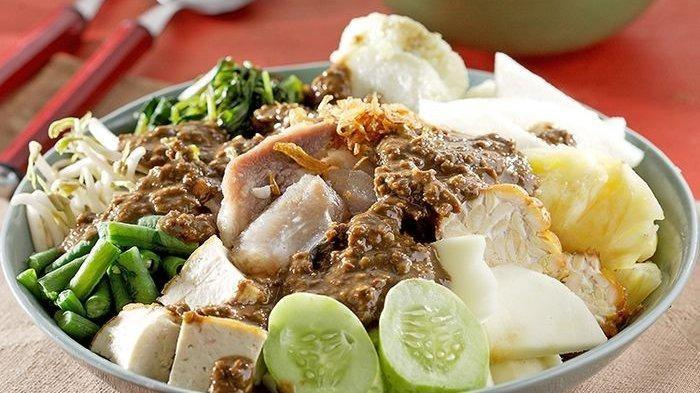rujak_cingur: (9, 13, 664, 393)
